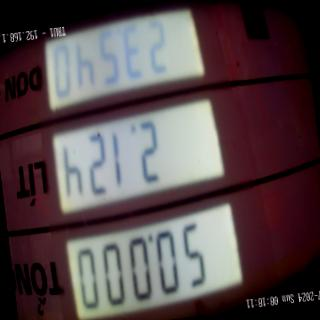screen: (30, 0, 253, 320)
